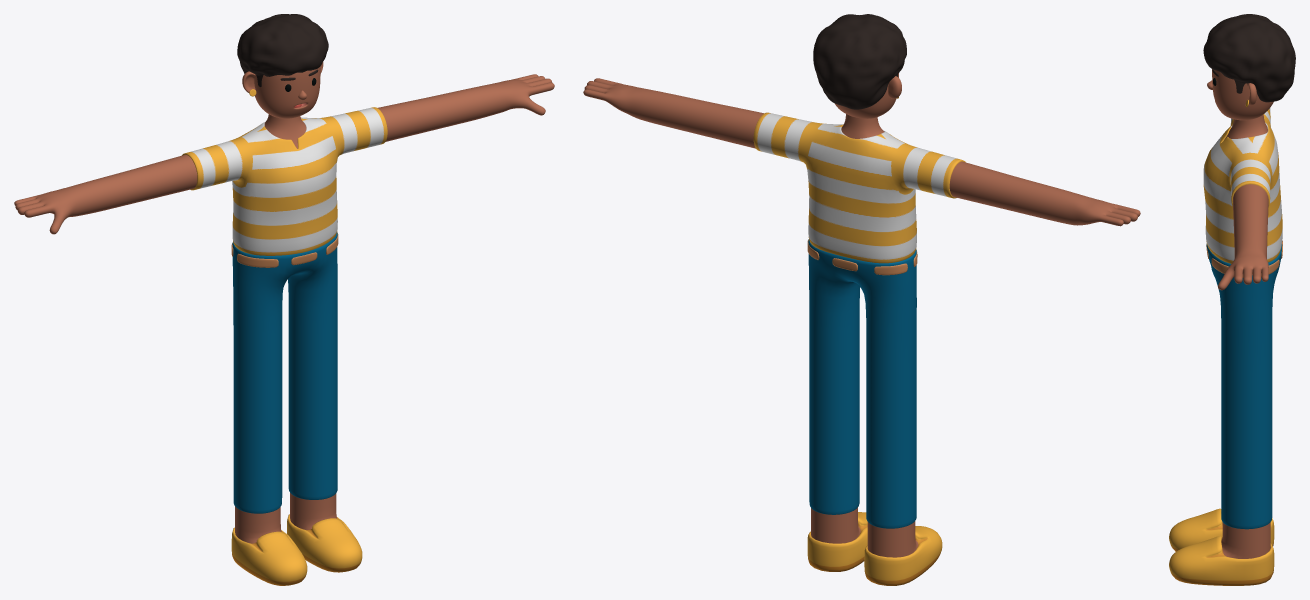
Rendered from GIRL 5.fbx.
3 views of the same model, side by side, from view 1: azimuth 30°, elevation 25°; view 2: azimuth 150°, elevation 25°; view 3: azimuth 270°, elevation 25° (orthographic). The views are drawn at different scales.
Visible parts, largest first — view 1: GIRL 5_PANTS, GIRL_BODY (NO SKIRT).003, GIRL 5_SHIRT, GIRL 5_HAIR, GIRL_5_SHOES.R, GIRL_5_SHOES.L, GIRL 5_BELT; view 2: GIRL 5_PANTS, GIRL 5_SHIRT, GIRL_BODY (NO SKIRT).003, GIRL 5_HAIR, GIRL_5_SHOES.R, GIRL_5_SHOES.L, GIRL 5_BELT; view 3: GIRL 5_PANTS, GIRL_BODY (NO SKIRT).003, GIRL 5_SHIRT, GIRL 5_HAIR, GIRL_5_SHOES.L, GIRL_5_SHOES.R, GIRL 5_BELT.
Part boxes in pixels (bbox=[...]): GIRL 5_PANTS: bbox=[232, 232, 337, 513]; GIRL_BODY (NO SKIRT).003: bbox=[14, 61, 554, 543]; GIRL 5_SHIRT: bbox=[182, 107, 387, 255]; GIRL 5_HAIR: bbox=[237, 14, 328, 86]; GIRL_5_SHOES.R: bbox=[231, 527, 307, 585]; GIRL_5_SHOES.L: bbox=[287, 514, 362, 572]; GIRL 5_BELT: bbox=[231, 232, 338, 267]; GIRL 5_PANTS: bbox=[808, 239, 916, 528]; GIRL 5_SHIRT: bbox=[753, 112, 965, 263]; GIRL_BODY (NO SKIRT).003: bbox=[583, 73, 1140, 557]; GIRL 5_HAIR: bbox=[813, 14, 906, 109]; GIRL_5_SHOES.R: bbox=[864, 526, 942, 585]; GIRL_5_SHOES.L: bbox=[807, 512, 867, 571]; GIRL 5_BELT: bbox=[807, 240, 917, 275]; GIRL 5_PANTS: bbox=[1206, 244, 1282, 529]; GIRL_BODY (NO SKIRT).003: bbox=[1207, 69, 1273, 558]; GIRL 5_SHIRT: bbox=[1203, 108, 1282, 263]; GIRL 5_HAIR: bbox=[1203, 14, 1295, 102]; GIRL_5_SHOES.L: bbox=[1169, 536, 1274, 585]; GIRL_5_SHOES.R: bbox=[1169, 508, 1274, 551]; GIRL 5_BELT: bbox=[1206, 240, 1282, 277].
Size of the model in its own units: 205 by 196 by 41.47.
Materials: 11 (8 with a texture image).
